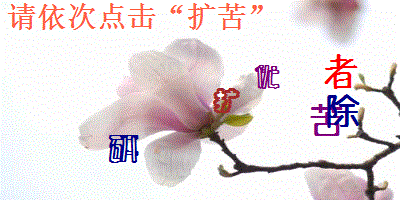result: (186, 1, 247, 32)
text: (325, 92, 362, 131), (309, 102, 344, 139), (323, 52, 357, 90), (106, 131, 141, 167), (211, 85, 242, 115), (252, 61, 282, 91)
